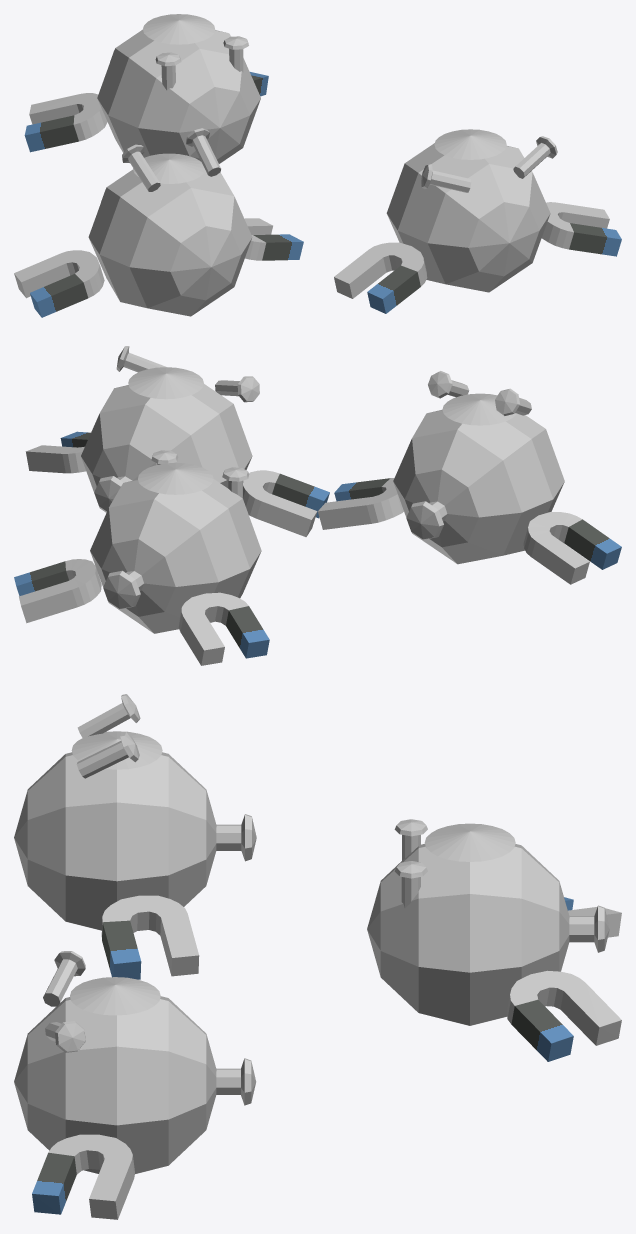
Rendered from BR_Magneton-Shiny01.obj.
The picture shows the model from 3 angles, top to bottom: view 1: azimuth 30°, elevation 25°; view 2: azimuth 150°, elevation 25°; view 3: azimuth 270°, elevation 25°; orthographic projection. The views are drawn at different scales.
Parts seen in each view (by area): view 1: rarecoil; view 2: rarecoil; view 3: rarecoil.
Boxes of the visible parts, x1,y1,x2,y2 form: rarecoil: (14, 14, 621, 317); rarecoil: (14, 346, 621, 665); rarecoil: (14, 694, 621, 1219).
Bounding box in the file's own units: 12.2 × 4.54 × 8.99.
